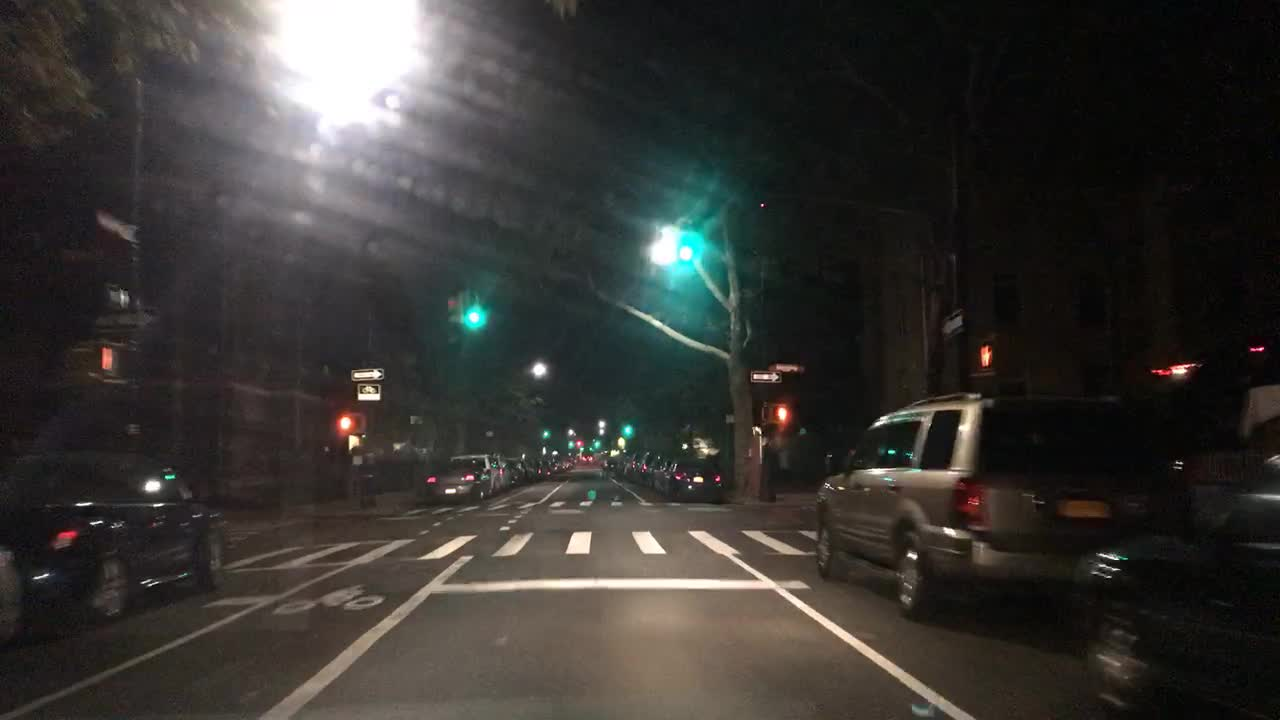car: (812, 390, 1185, 619), (1066, 459, 1279, 715), (0, 452, 225, 631), (661, 456, 730, 499), (421, 459, 489, 499), (448, 453, 502, 495), (635, 446, 661, 485), (485, 453, 512, 489), (619, 446, 644, 477), (603, 451, 629, 476), (503, 456, 525, 485), (649, 451, 664, 485), (525, 459, 540, 480), (540, 459, 557, 477), (557, 460, 575, 471), (580, 456, 593, 466)
traffic light: (70, 343, 122, 375), (679, 220, 699, 264), (975, 338, 996, 373), (333, 412, 365, 433), (444, 293, 460, 329), (460, 298, 481, 322), (765, 402, 789, 422), (623, 419, 634, 440), (593, 435, 606, 450), (538, 426, 550, 441), (567, 440, 575, 450)
traffic sign: (97, 306, 162, 331), (935, 309, 968, 338), (99, 283, 131, 308), (349, 366, 385, 381), (750, 368, 783, 384), (356, 383, 382, 401)
